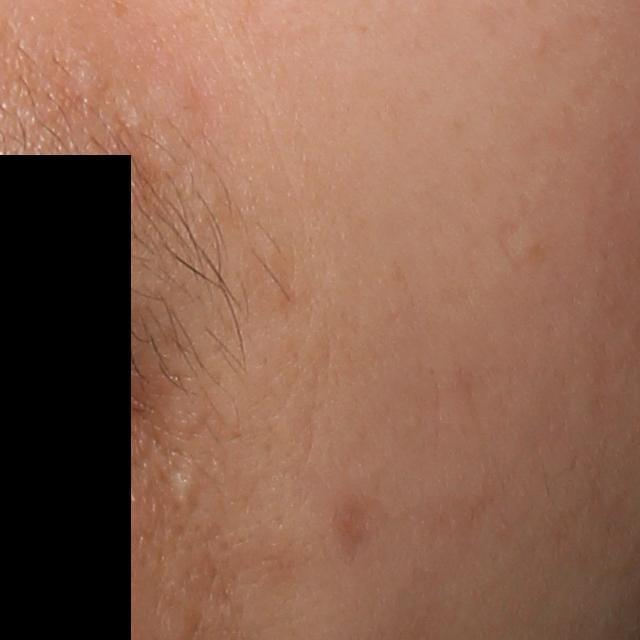hypertrophic_scar: (171, 470, 202, 519)
